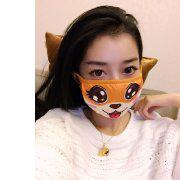OK: (81, 55, 142, 117)
